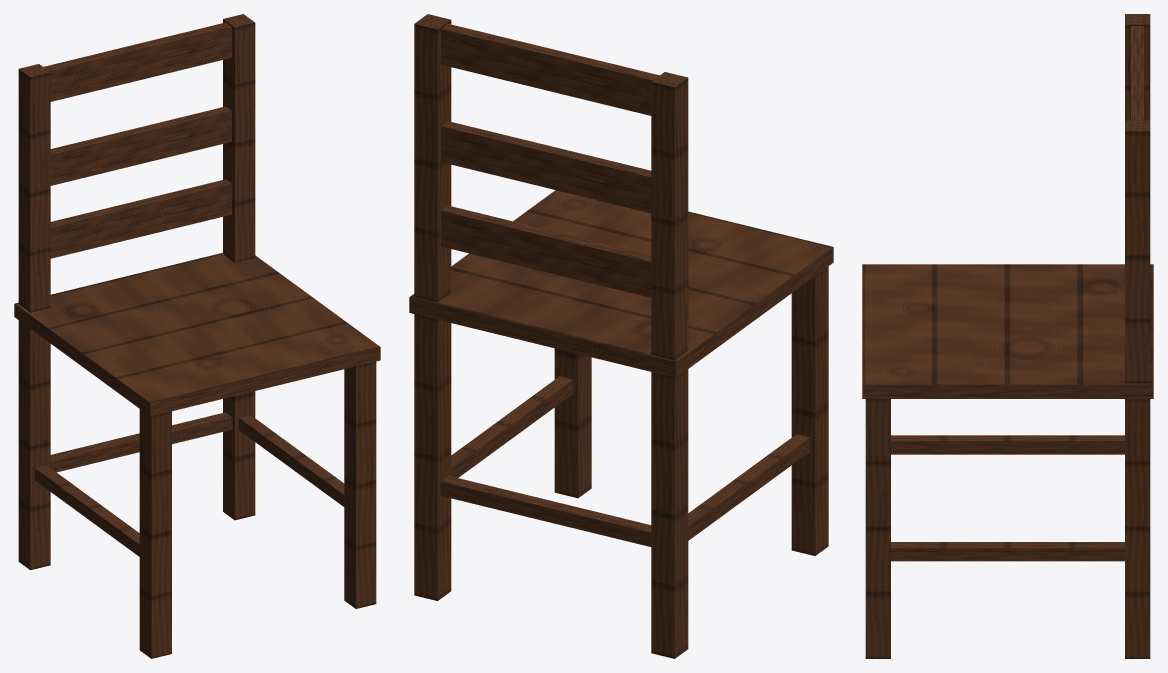
The model's file is basic_chair.obj.
3 renders of one model, left to right at view 1: azimuth 30°, elevation 25°; view 2: azimuth 150°, elevation 25°; view 3: azimuth 270°, elevation 25°, orthographic. The views are drawn at different scales.
Visible parts, largest first — view 1: material_5; view 2: material_5; view 3: material_5.
Boxes of the visible parts, x1,y1,x2,y2 form: material_5: [14, 14, 380, 658]; material_5: [409, 14, 833, 658]; material_5: [862, 14, 1153, 658].
Bounding box in the file's own units: 13.76 × 28.16 × 14.08.
1 material, 1 textured.
